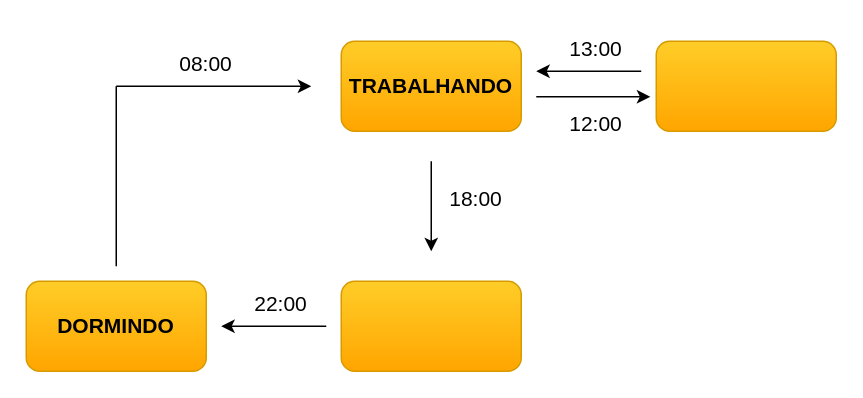
This 863x398 diagram has some shape labels left out. Each missing label, with the box of its shape:
ACORDADO: (340, 280, 521, 371)
DESCANSANDO: (655, 40, 836, 131)
